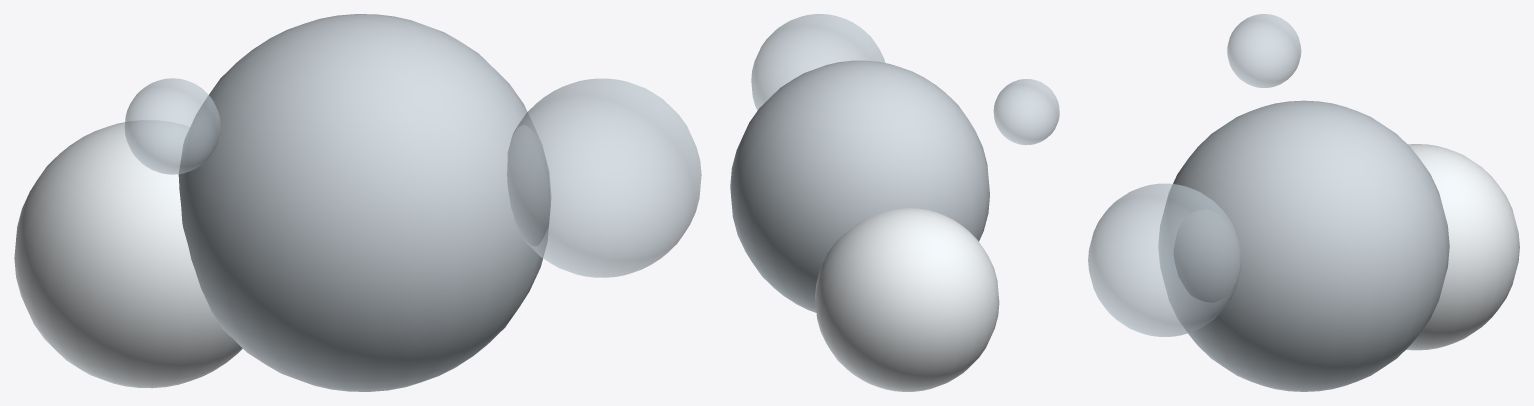
Rendered from prdxq-hero-layers.gltf.
3 views of the same model, side by side, from view 1: azimuth 30°, elevation 25°; view 2: azimuth 150°, elevation 25°; view 3: azimuth 270°, elevation 25° (orthographic). The views are drawn at different scales.
Parts seen in each view (by area): view 1: Chrome_Core, Pearl_Layer_Back, Glass_Orb_Front, Glass_Layer_Side; view 2: Chrome_Core, Pearl_Layer_Back, Glass_Orb_Front, Glass_Layer_Side; view 3: Chrome_Core, Glass_Orb_Front, Pearl_Layer_Back, Glass_Layer_Side.
Boxes of the visible parts, x1,y1,x2,y2 form: Chrome_Core: (178,14,550,391); Pearl_Layer_Back: (14,120,242,388); Glass_Orb_Front: (507,78,701,277); Glass_Layer_Side: (124,78,220,174); Chrome_Core: (730,60,989,312); Pearl_Layer_Back: (815,208,999,391); Glass_Orb_Front: (751,14,884,110); Glass_Layer_Side: (993,79,1059,145); Chrome_Core: (1158,100,1449,391); Glass_Orb_Front: (1088,183,1241,336); Pearl_Layer_Back: (1406,144,1519,350); Glass_Layer_Side: (1227,14,1301,87).
Bounding box in the file's own units: 3.31 × 2.46 × 3.26.
